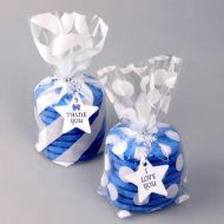snack: (90, 48, 196, 224), (21, 4, 115, 170)
